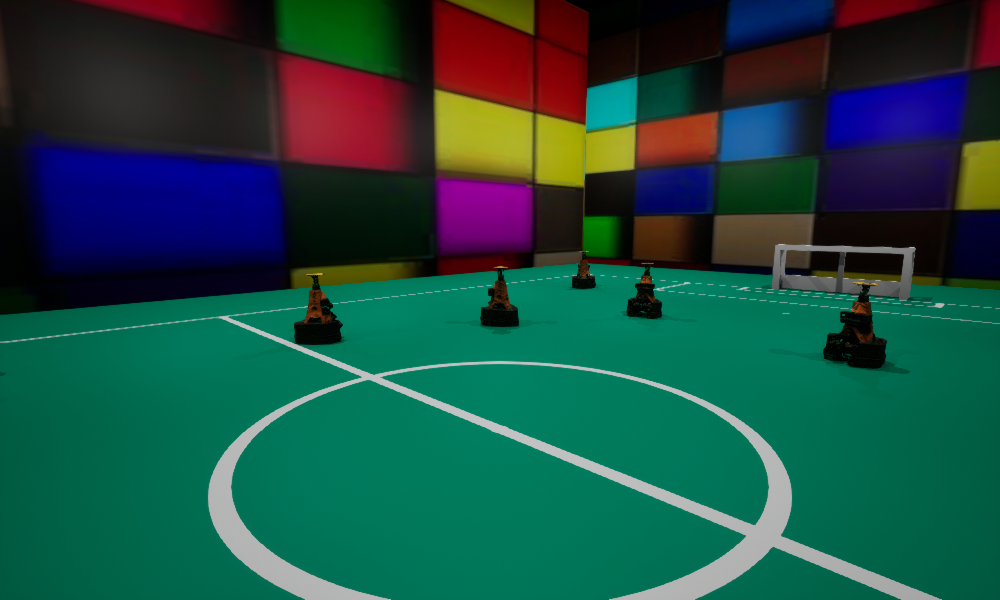o: (823, 282, 886, 367), (294, 273, 342, 344), (480, 266, 518, 326), (626, 263, 661, 317), (572, 251, 595, 288)
